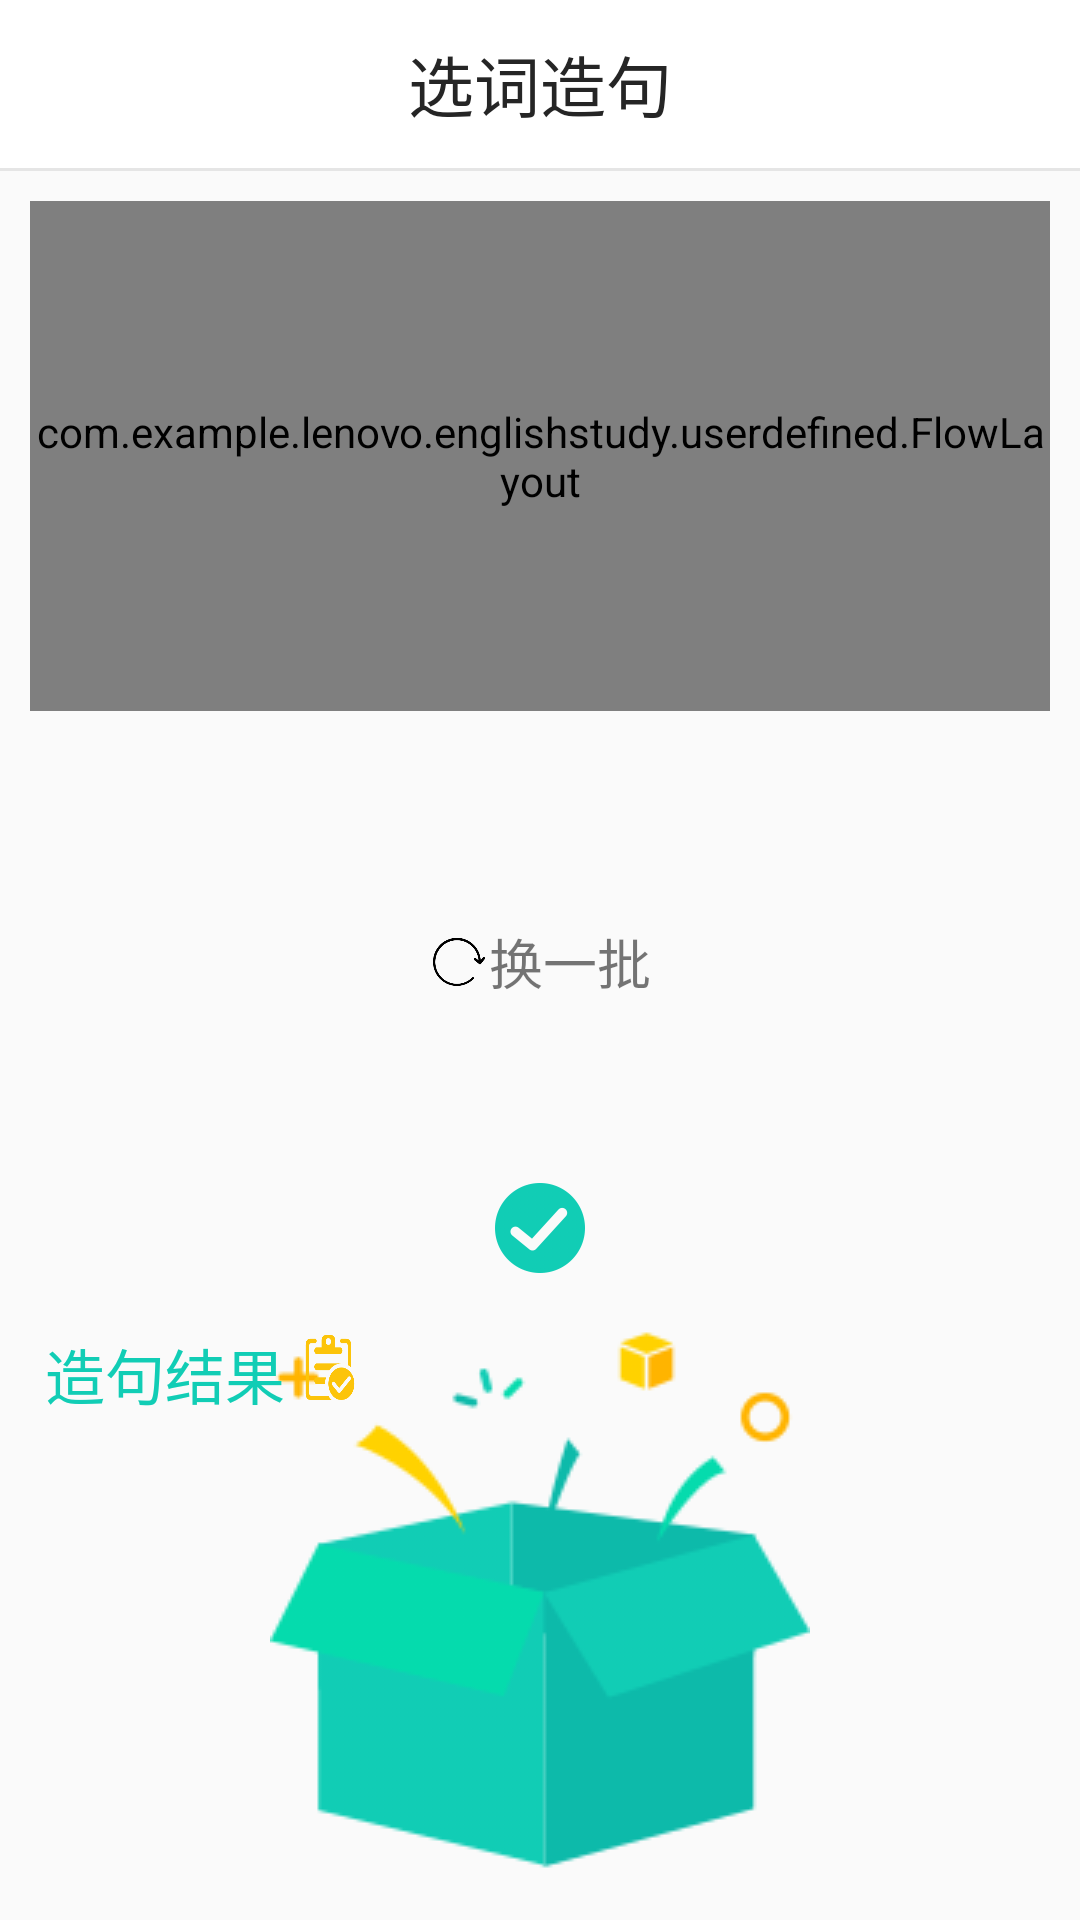

Locate icon controls on the screen. Image size 1080 x 1920, boxes as box=[x1, y1, x2, y2].
end: box=[495, 1183, 585, 1273]
